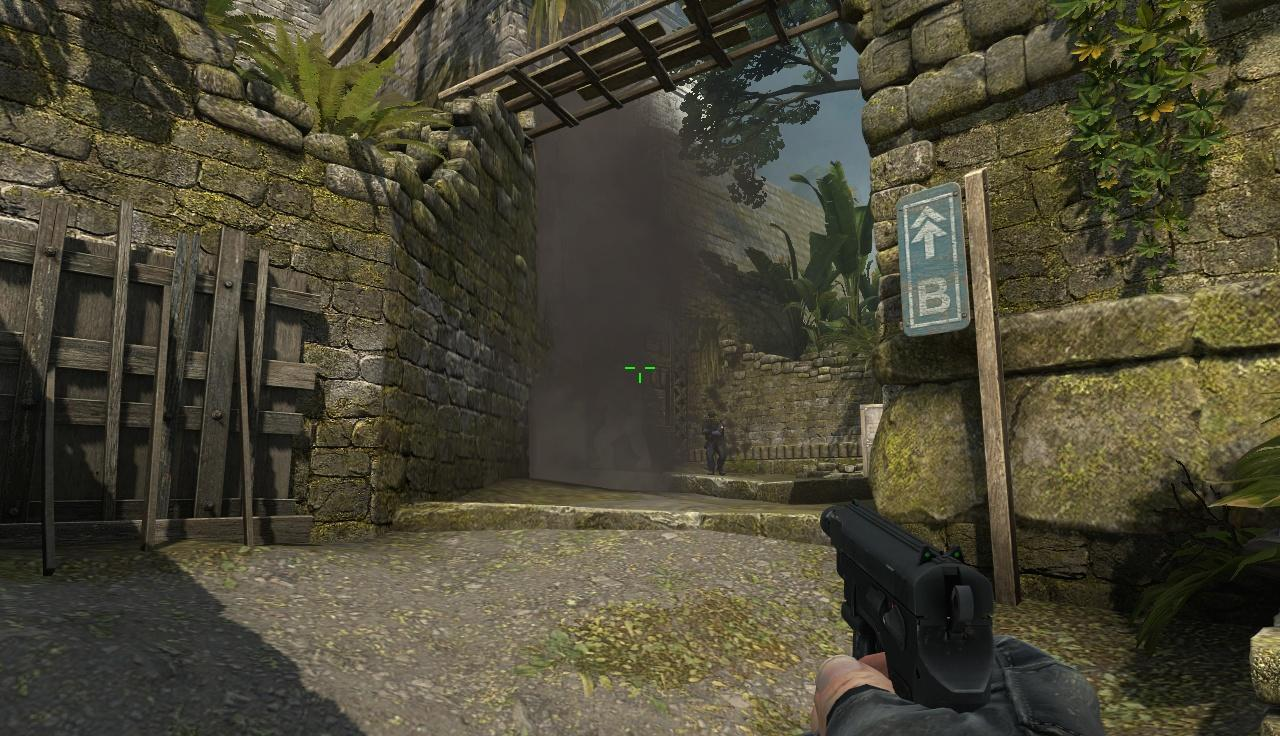ct: (703, 411, 725, 476)
cthead: (707, 411, 716, 423)
pistol: (816, 506, 1009, 736)
